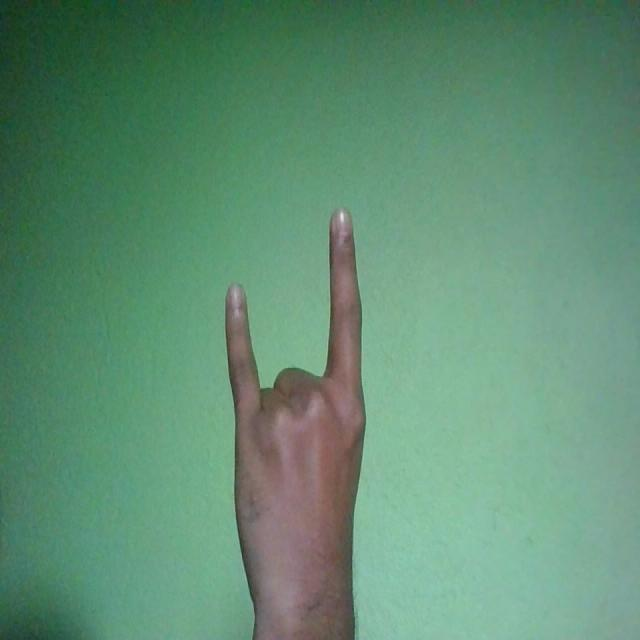open Plam: (226, 205, 366, 628)
